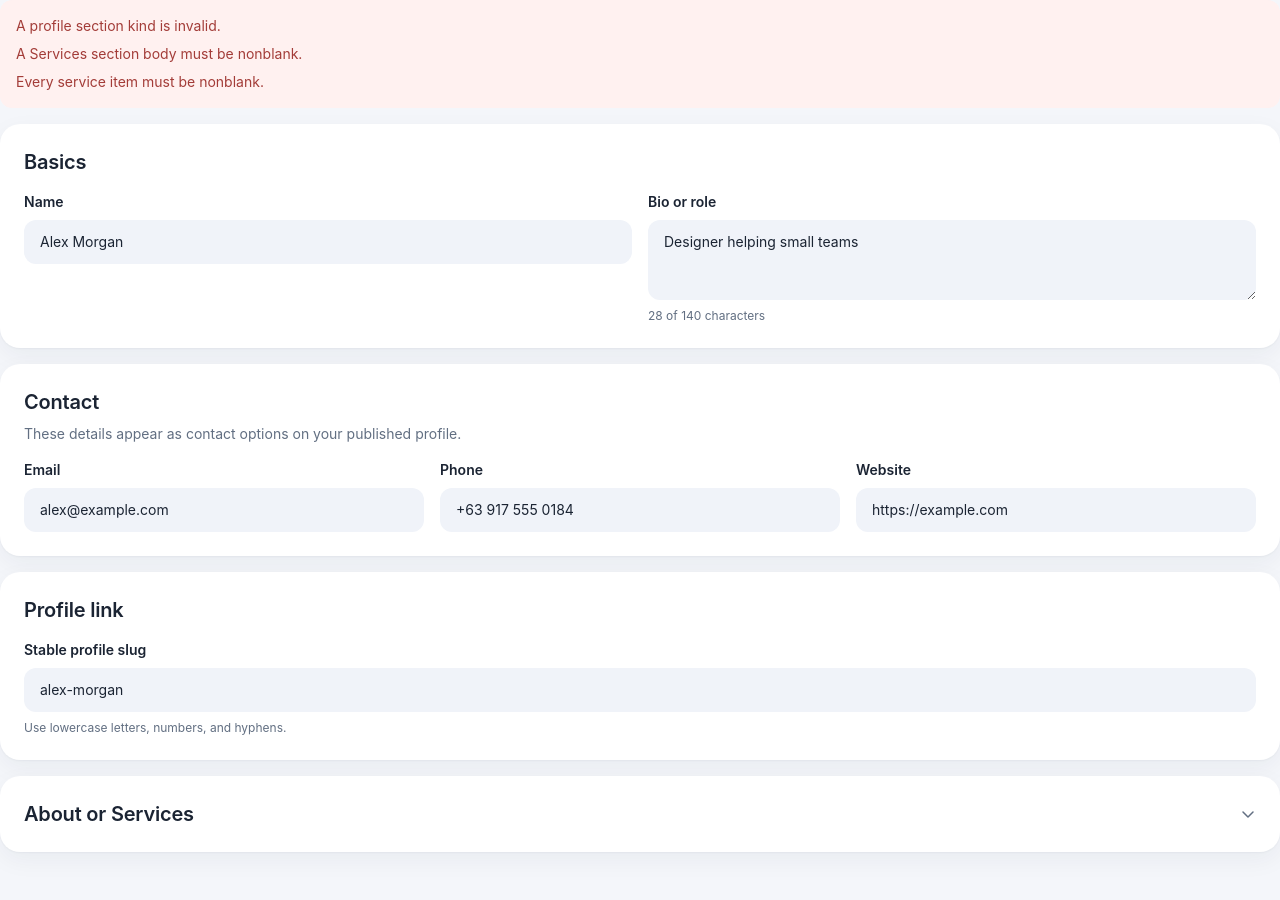
Test case: ProfileDetailsEditor › preserves section and field validation accessibility
This screenshot has width=1280, height=900.
Step 1. Click the button "About or Services" → {"x": 109, "y": 814}, box [0, 776, 1279, 852]
(page scrolled)
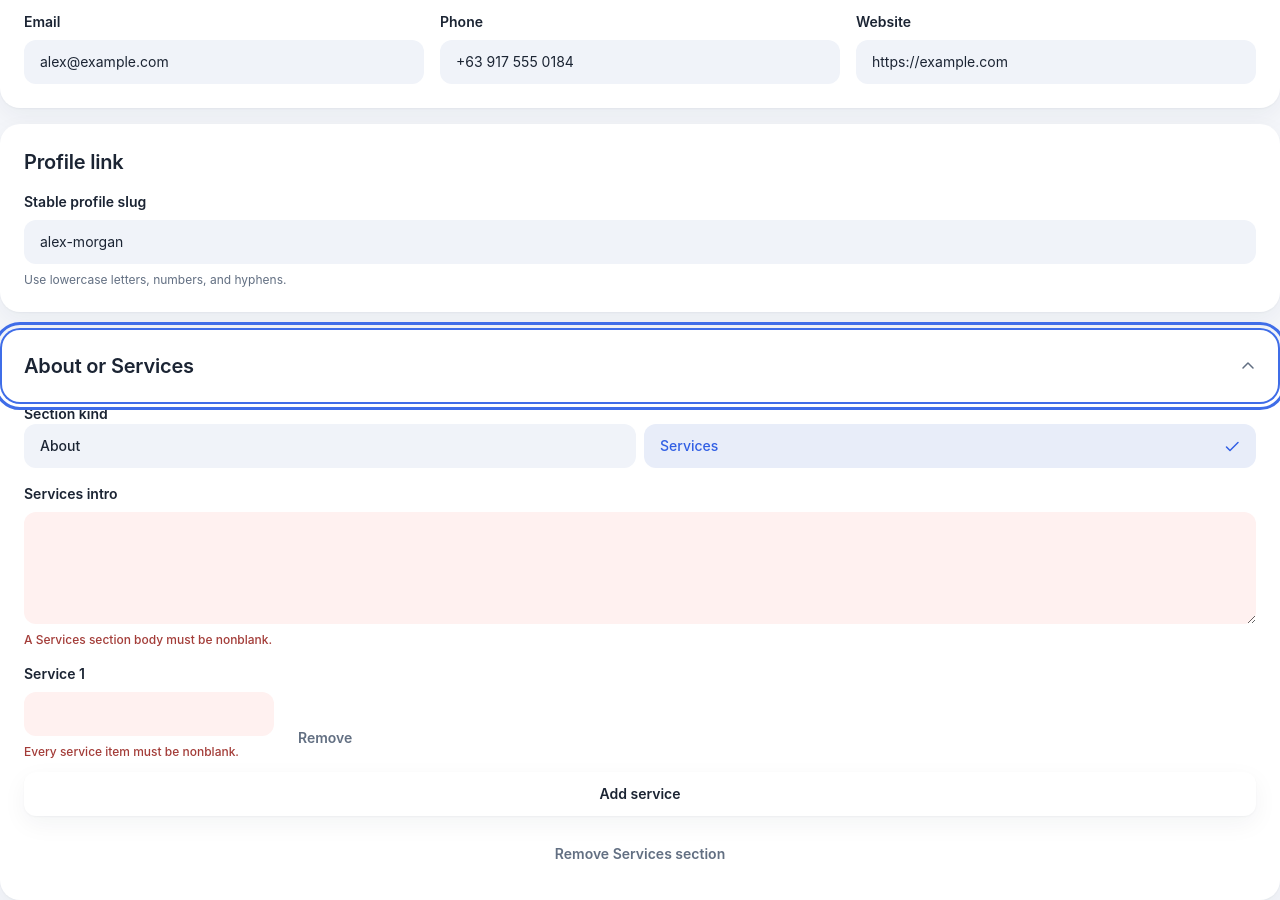
Now the text "A Services section body must be nonblank." is shown, box [24, 632, 272, 647]
Now the text "Every service item must be nonblank." is shown, box [24, 744, 274, 760]
